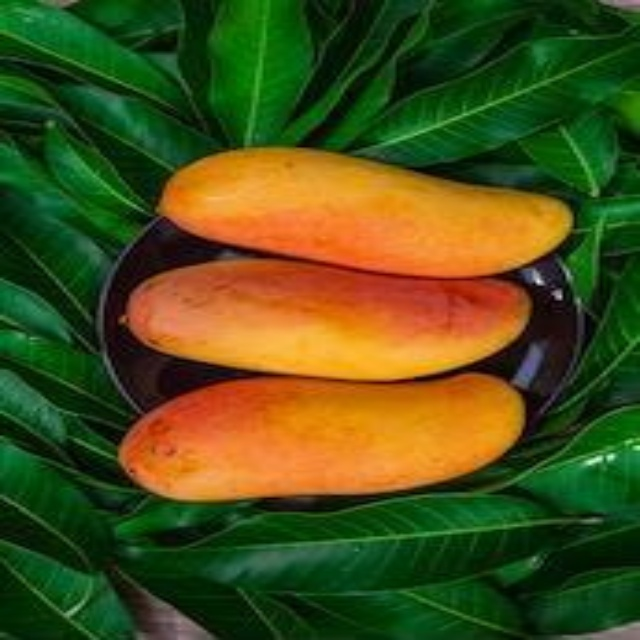mango: (155, 146, 576, 276), (109, 376, 539, 501), (123, 259, 531, 384)
